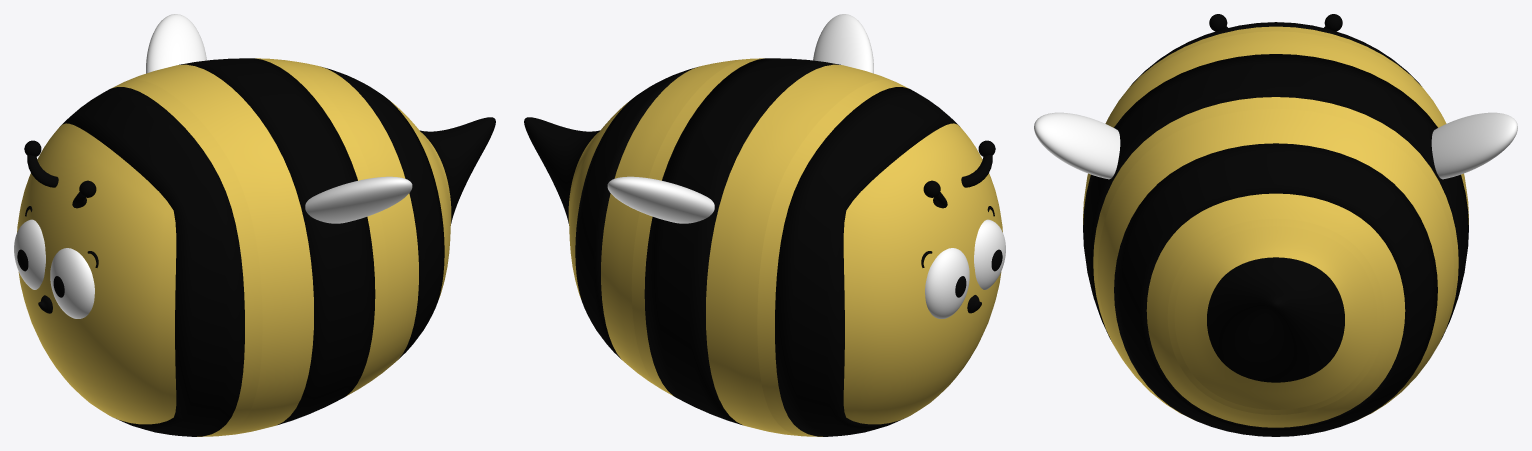
File: bee.fbx
3 views of the same model, side by side, from view 1: azimuth 30°, elevation 25°; view 2: azimuth 150°, elevation 25°; view 3: azimuth 270°, elevation 25° (orthographic). The views are drawn at different scales.
Parts seen in each view (by area): view 1: Bee, Bee-1; view 2: Bee, Bee-1; view 3: Bee.
Part boxes in pixels (<box>): Bee: <box>14,14,495,436</box>; Bee-1: <box>27,155,86,208</box>; Bee: <box>524,14,1005,436</box>; Bee-1: <box>933,155,992,208</box>; Bee: <box>1034,14,1517,436</box>.
Bounding box in the file's own units: 279 × 194 × 243.
